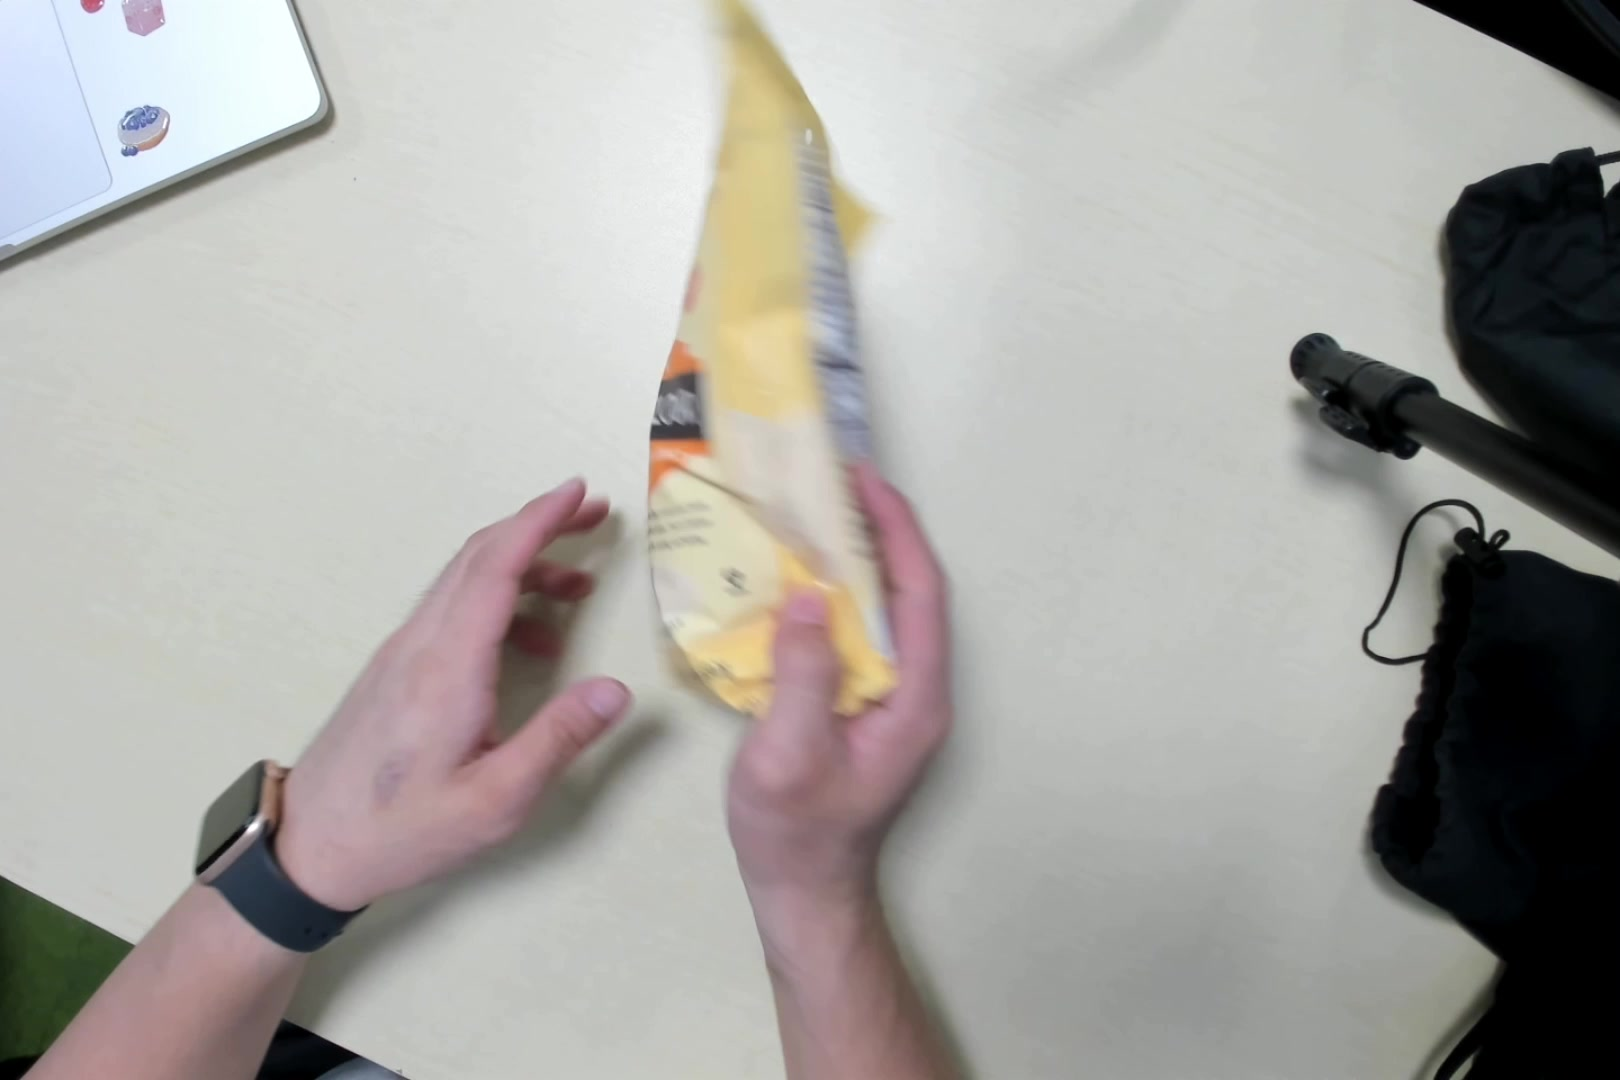OtherBakingNeeds_600-699g_NonHalal_NonHealthy: (641, 10, 906, 717)
